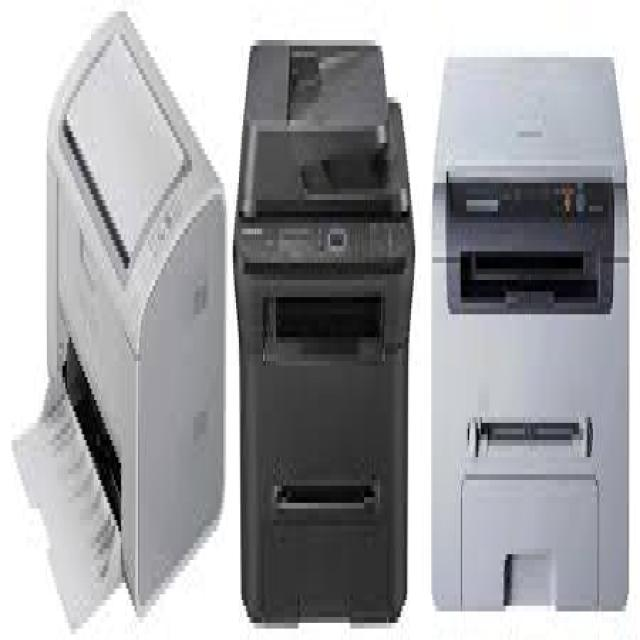printer: (7, 4, 230, 637), (422, 36, 633, 640), (228, 0, 420, 640)
